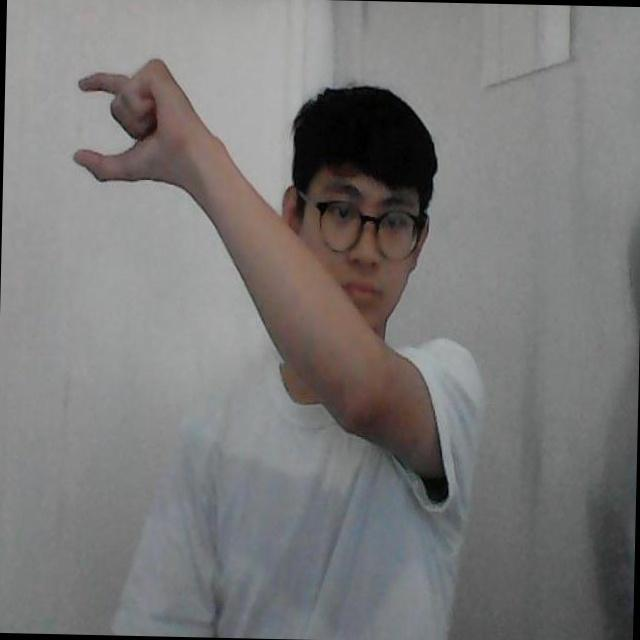C: (70, 54, 206, 198)
